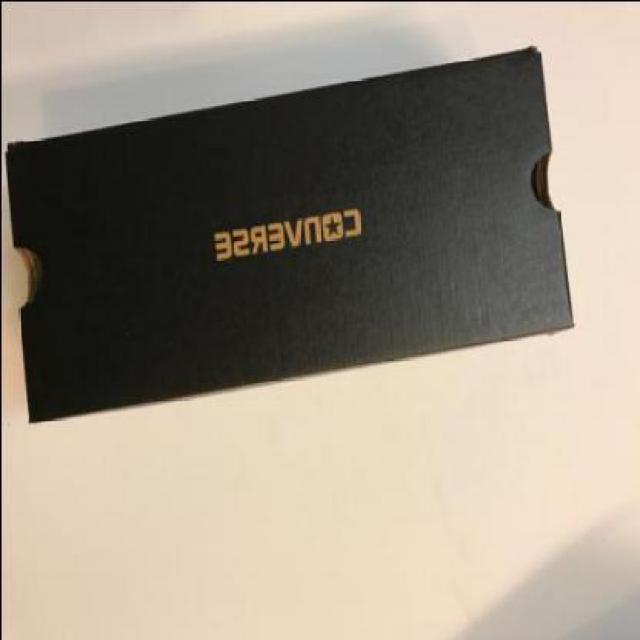box: (5, 42, 577, 420)
